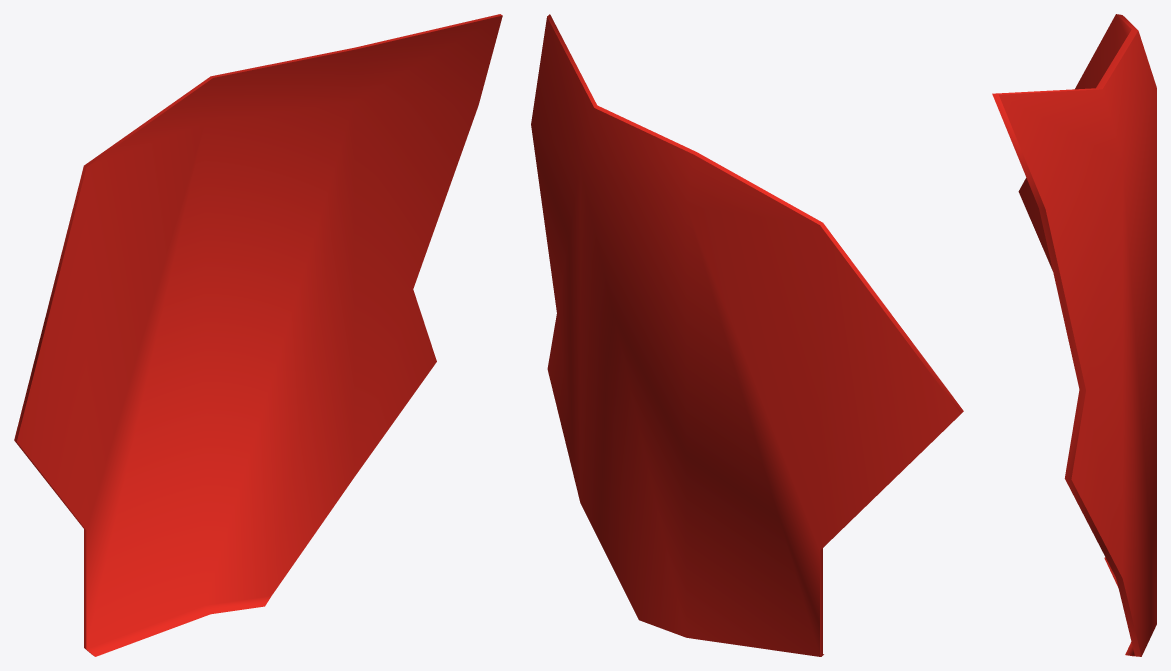
File: Antibiotic_Shard2.fbx
3 views of the same model, side by side, from view 1: azimuth 30°, elevation 25°; view 2: azimuth 150°, elevation 25°; view 3: azimuth 270°, elevation 25° (orthographic). The views are drawn at different scales.
Parts seen in each view (by area): view 1: shard.002; view 2: shard.002; view 3: shard.002.
Boxes of the visible parts, box(x1,y1,x2,y2) form: shard.002: box(14, 14, 502, 656); shard.002: box(531, 14, 963, 656); shard.002: box(992, 14, 1156, 656).
Bounding box in the file's own units: 86.24 × 103 × 23.3.
